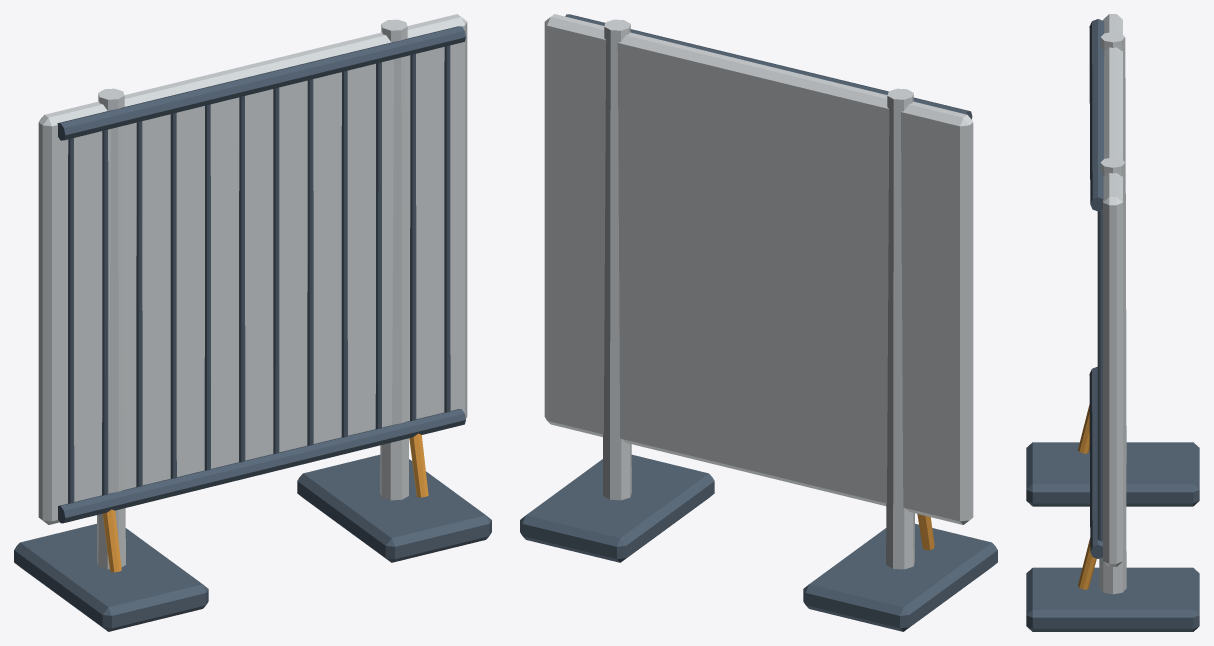
3 renders of one model, left to right at view 1: azimuth 30°, elevation 25°; view 2: azimuth 150°, elevation 25°; view 3: azimuth 270°, elevation 25°, orthographic. The views are drawn at different scales.
Parts seen in each view (by area): view 1: ME-004 Vertical thermal radiator batched; view 2: ME-004 Vertical thermal radiator batched; view 3: ME-004 Vertical thermal radiator batched.
Part boxes in pixels (left/top/right/bottom): ME-004 Vertical thermal radiator batched: left=14, top=14, right=491, bottom=631; ME-004 Vertical thermal radiator batched: left=520, top=14, right=997, bottom=631; ME-004 Vertical thermal radiator batched: left=1026, top=14, right=1199, bottom=631.
Bounding box in the file's own units: 1.8 × 2 × 0.7.
